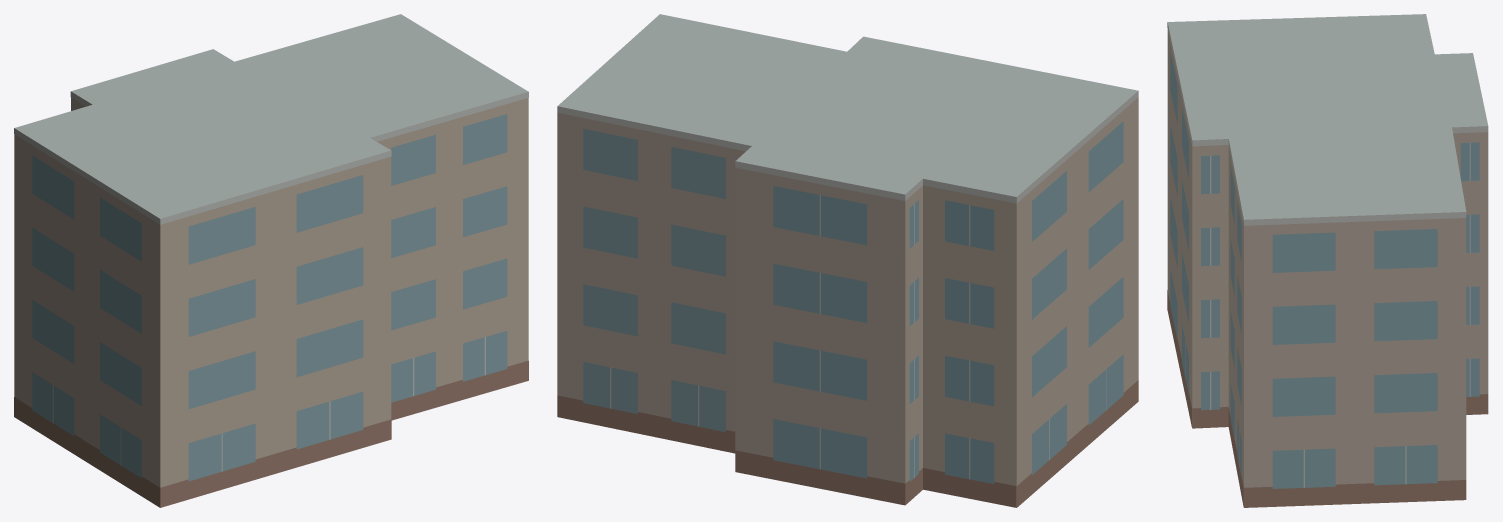
The model's file is survey-upis-32735001.glb.
The picture shows the model from 3 angles, left to right: view 1: azimuth 30°, elevation 25°; view 2: azimuth 150°, elevation 25°; view 3: azimuth 270°, elevation 25°; orthographic projection. The views are drawn at different scales.
Parts seen in each view (by area): view 1: survey-upis-32735001.tmp; view 2: survey-upis-32735001.tmp; view 3: survey-upis-32735001.tmp.
Part boxes in pixels (x1,y1,x2,y2): survey-upis-32735001.tmp: [14, 14, 528, 507]; survey-upis-32735001.tmp: [557, 14, 1138, 507]; survey-upis-32735001.tmp: [1167, 14, 1488, 507].
Bounding box in the file's own units: 18.09 × 11.8 × 11.92.
